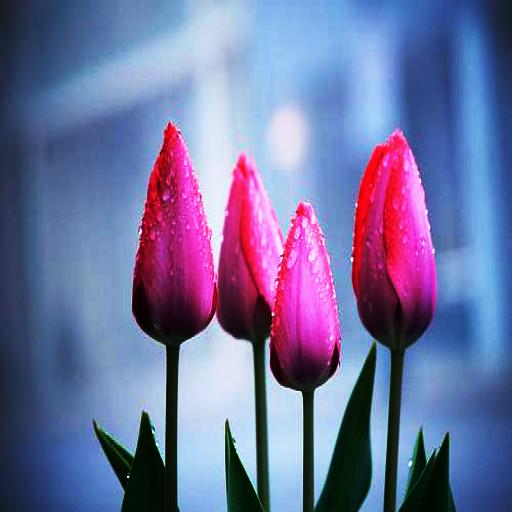tulip: (131, 121, 220, 344), (352, 129, 435, 347), (268, 200, 342, 390), (216, 152, 283, 339)
